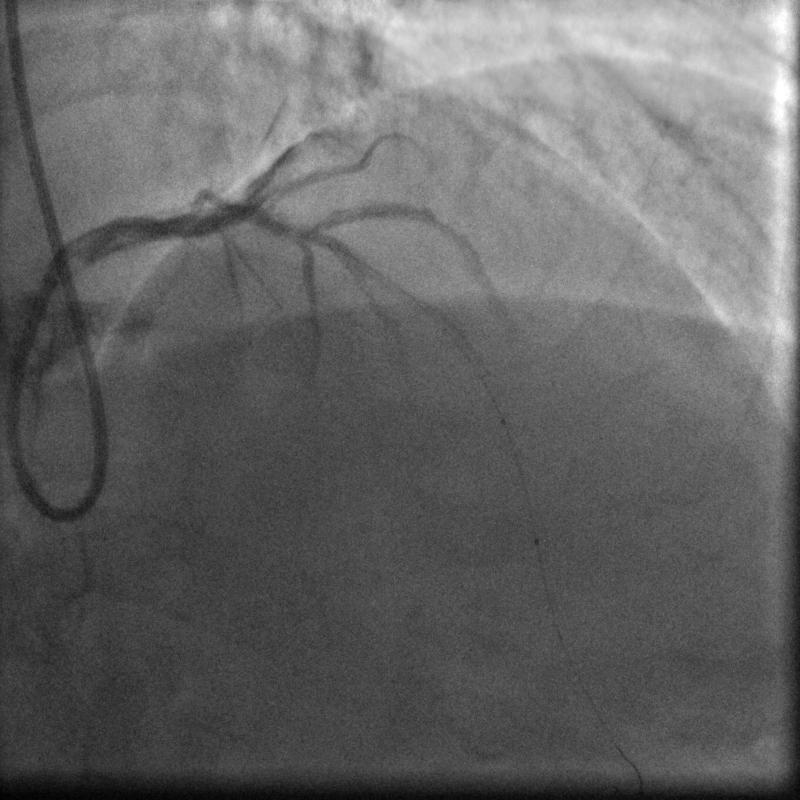Stenosis: (424, 203, 463, 242)
